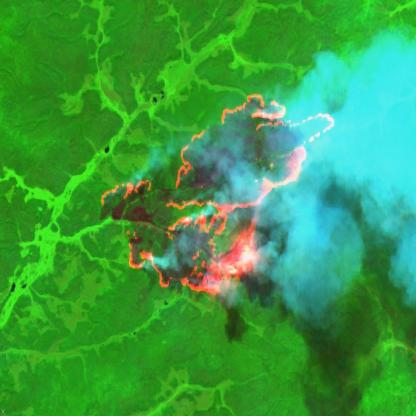fire: (98, 81, 338, 300)
